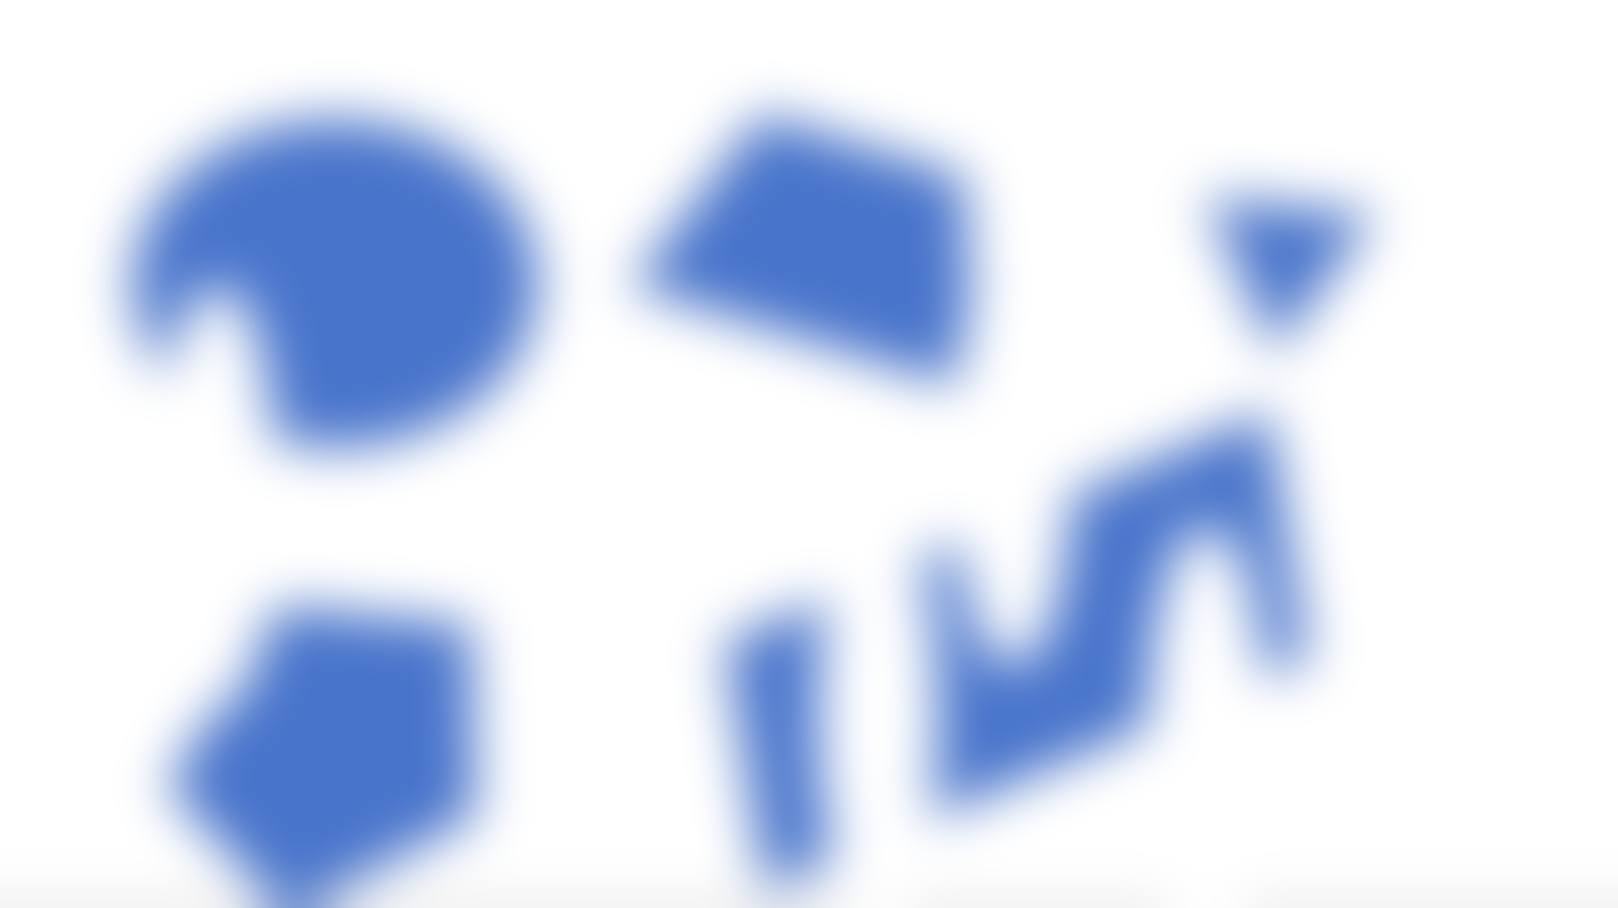circle: (123, 97, 543, 465)
parallelogram: (707, 425, 1348, 900)
pentagon: (140, 585, 513, 908)
trapezium: (613, 109, 1018, 412)
triangle: (1186, 166, 1401, 371)
